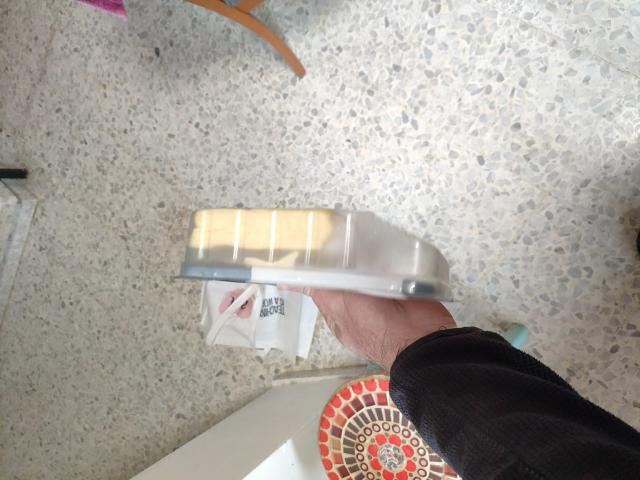cheese: (175, 174, 434, 352)
